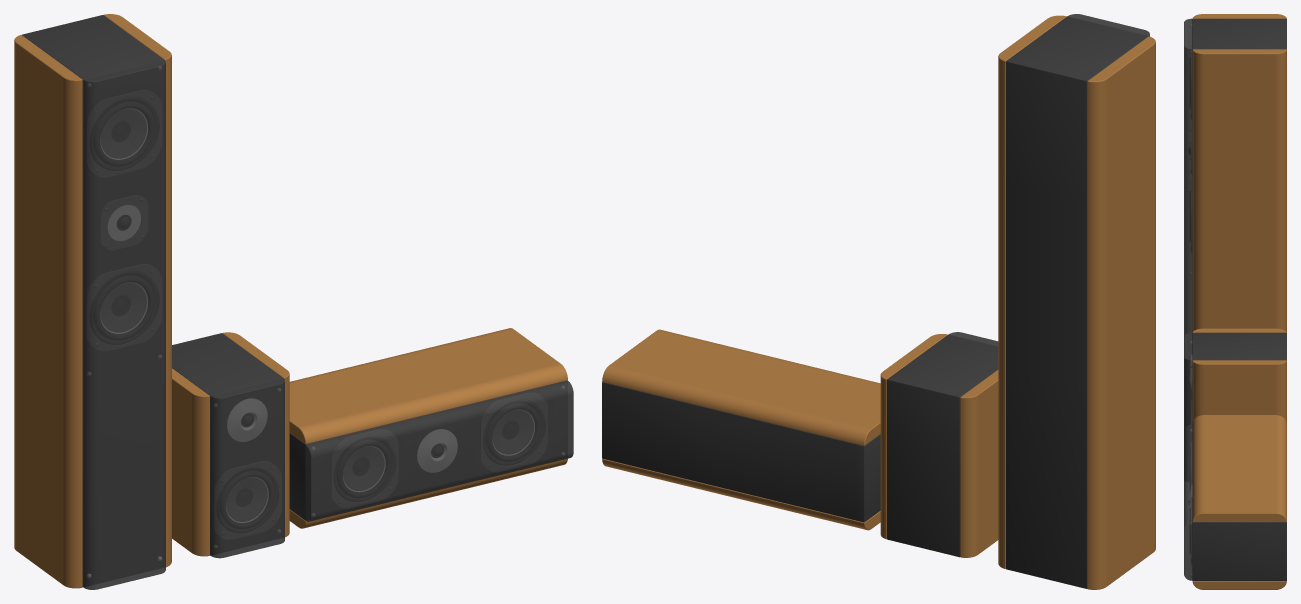
The model's file is Yinxiang.FBX.
3 renders of one model, left to right at view 1: azimuth 30°, elevation 25°; view 2: azimuth 150°, elevation 25°; view 3: azimuth 270°, elevation 25°, orthographic. The views are drawn at different scales.
Parts seen in each view (by area): view 1: obj_06, obj_07, obj_04, obj_13, obj_17, obj_11, obj_12, obj_18, obj_03, obj_01, obj_08, obj_10 (+5 smaller); view 2: obj_04, obj_07, obj_12, obj_11, obj_18, obj_17; view 3: obj_07, obj_11, obj_17, obj_12, obj_04, obj_06, obj_18, obj_13, obj_03.
Part boxes in pixels (box(x1,y1,x2,y2)): obj_06: box(83, 60, 165, 589); obj_07: box(14, 14, 171, 588); obj_04: box(22, 15, 163, 587); obj_13: box(306, 381, 573, 521); obj_17: box(172, 332, 289, 558); obj_11: box(289, 328, 567, 528); obj_12: box(289, 380, 567, 520); obj_18: box(172, 333, 282, 555); obj_03: box(86, 90, 162, 351); obj_01: box(90, 97, 157, 344); obj_08: box(334, 399, 543, 501); obj_10: box(331, 393, 547, 508); obj_04: box(1006, 16, 1147, 588); obj_07: box(998, 15, 1155, 589); obj_12: box(602, 382, 880, 522); obj_11: box(602, 329, 880, 530); obj_18: box(887, 334, 998, 557); obj_17: box(880, 332, 998, 557); obj_07: box(1192, 14, 1286, 332); obj_11: box(1192, 415, 1286, 589); obj_17: box(1184, 328, 1286, 429); obj_12: box(1192, 424, 1286, 580); obj_04: box(1192, 18, 1286, 332); obj_06: box(1184, 18, 1192, 335); obj_18: box(1192, 332, 1286, 423); obj_13: box(1184, 424, 1192, 580); obj_03: box(1190, 45, 1191, 253).
Size of the model in its own units: 31.25 by 30.5 by 7.29.
